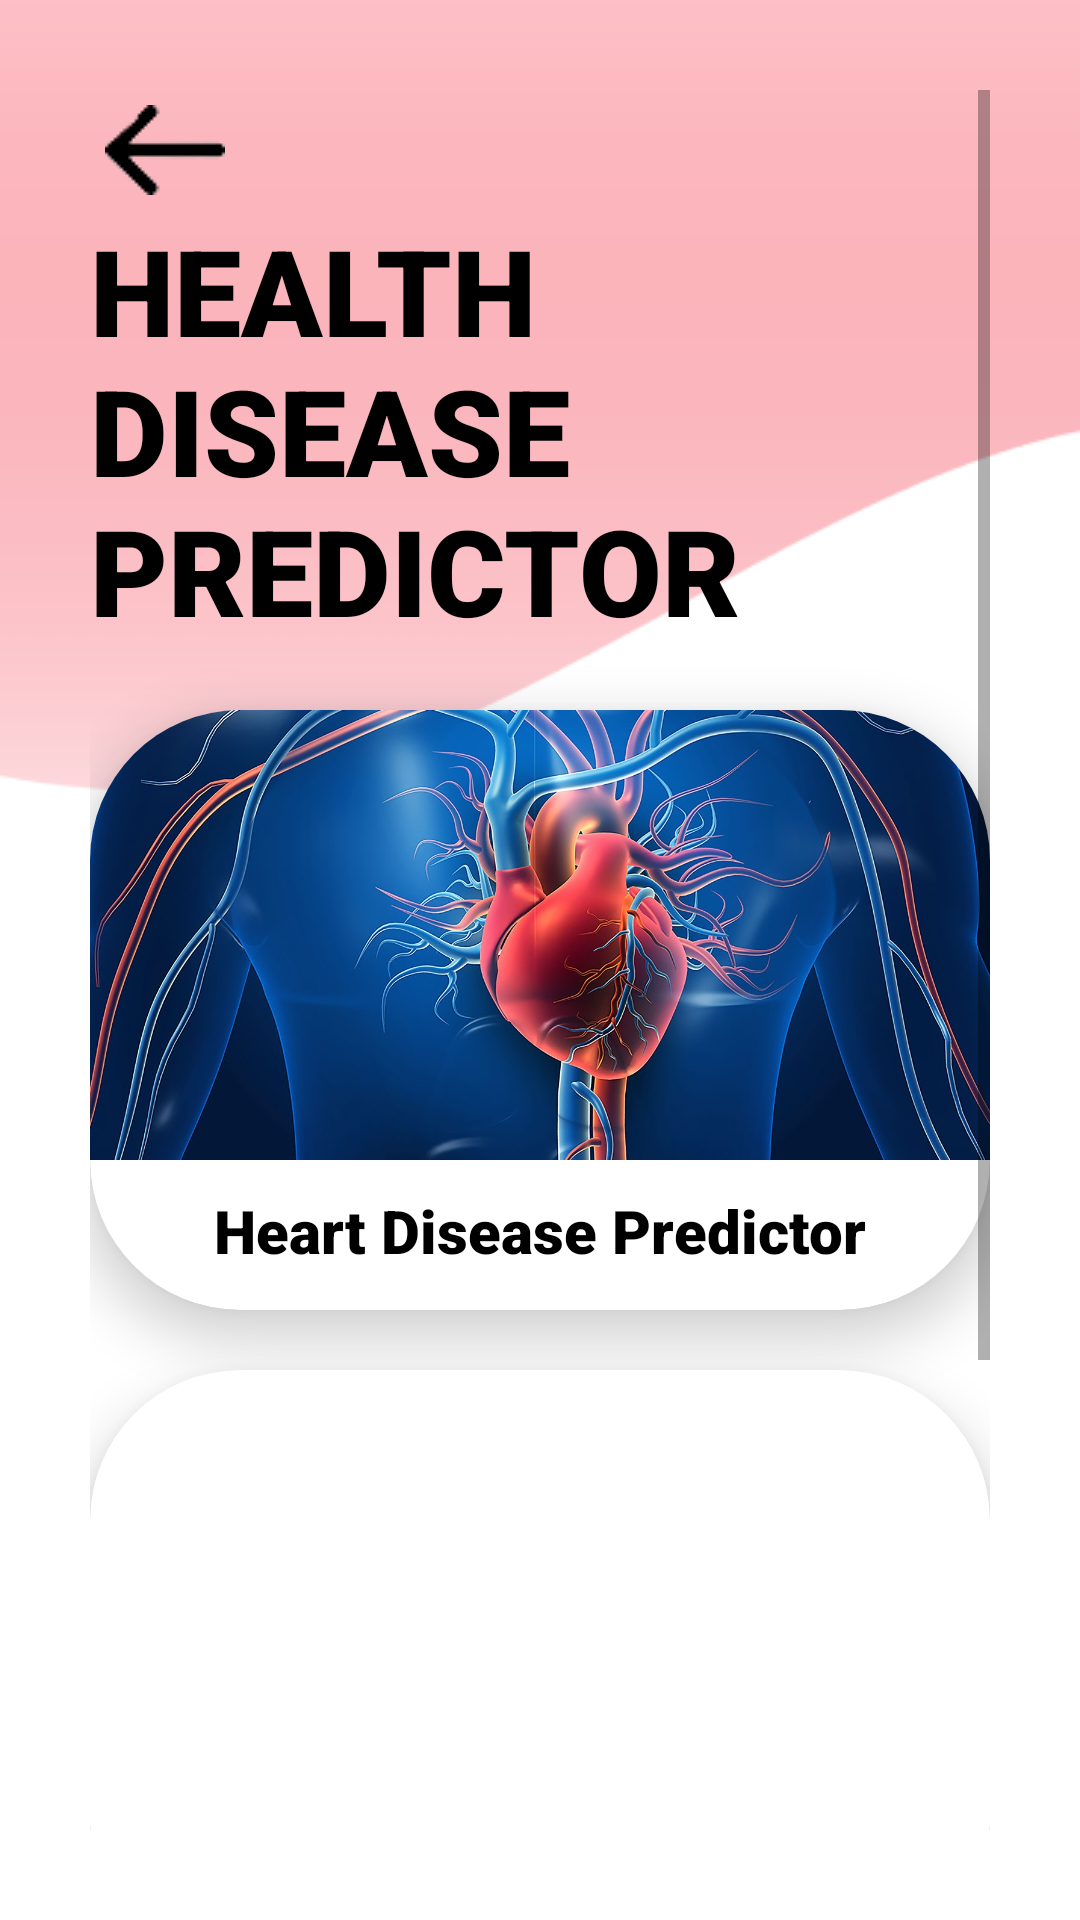

Screen size 1080w x 1920h. Icon name, then its center in pixels as [x,y]:
back: [165,150]
